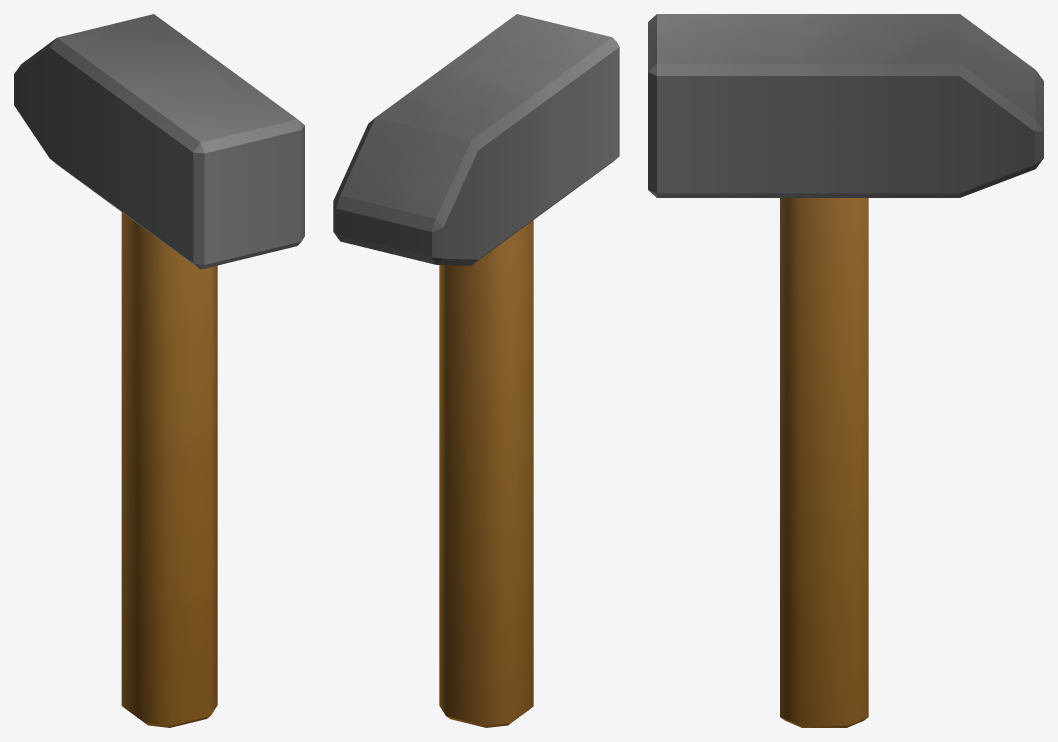
The model's file is Hamer_2.fbx.
3 renders of one model, left to right at view 1: azimuth 30°, elevation 25°; view 2: azimuth 150°, elevation 25°; view 3: azimuth 270°, elevation 25°, orthographic. The views are drawn at different scales.
Parts seen in each view (by area): view 1: Hamer_2; view 2: Hamer_2; view 3: Hamer_2.
Part boxes in pixels (box(x1,y1,x2,y2)): Hamer_2: box(14, 14, 304, 727); Hamer_2: box(333, 14, 619, 727); Hamer_2: box(648, 14, 1043, 727).
Size of the model in its own units: 6.1 by 33.26 by 17.75.
